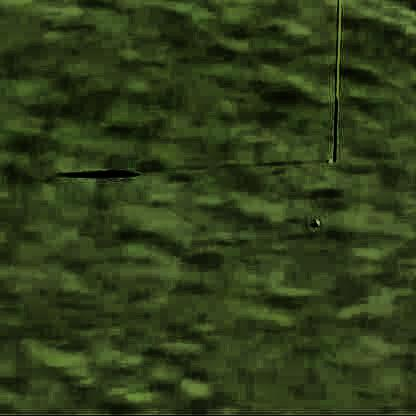golfball: (310, 216, 317, 226)
